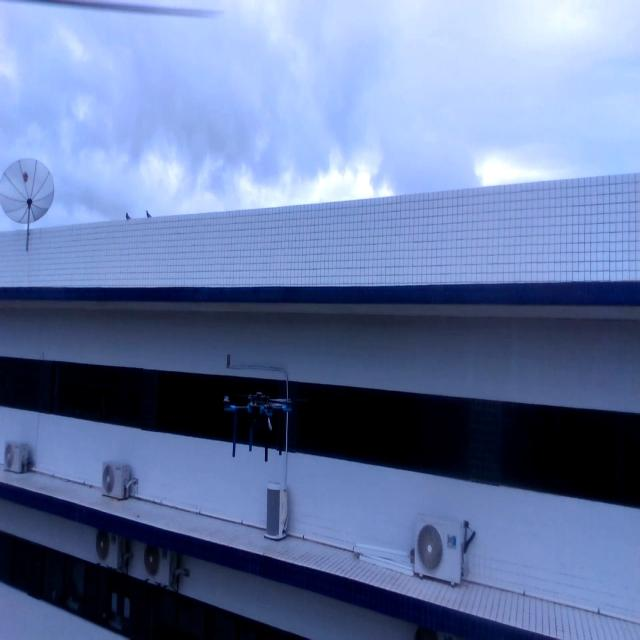-uav-: (218, 376, 302, 470)
